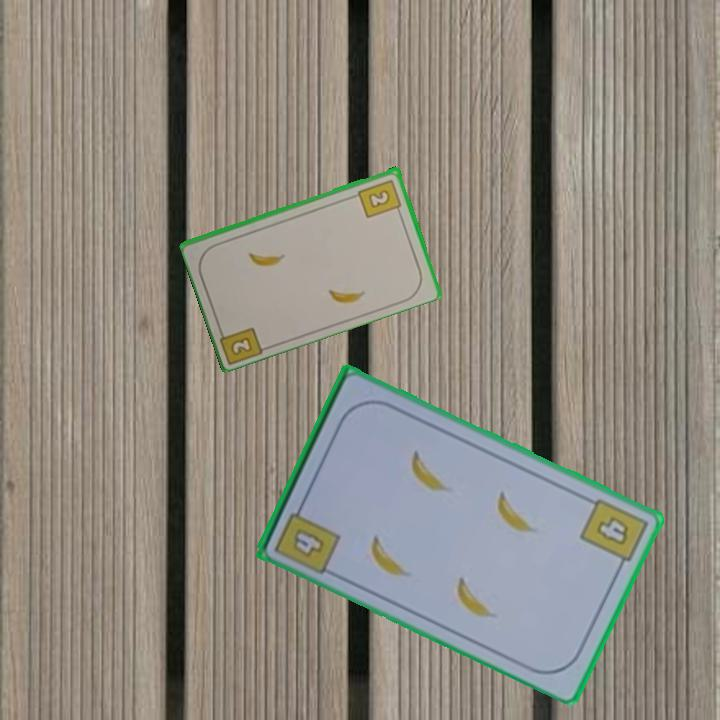2b: (355, 175, 404, 221), (215, 322, 267, 365)
4b: (576, 494, 651, 574), (271, 497, 343, 578)
